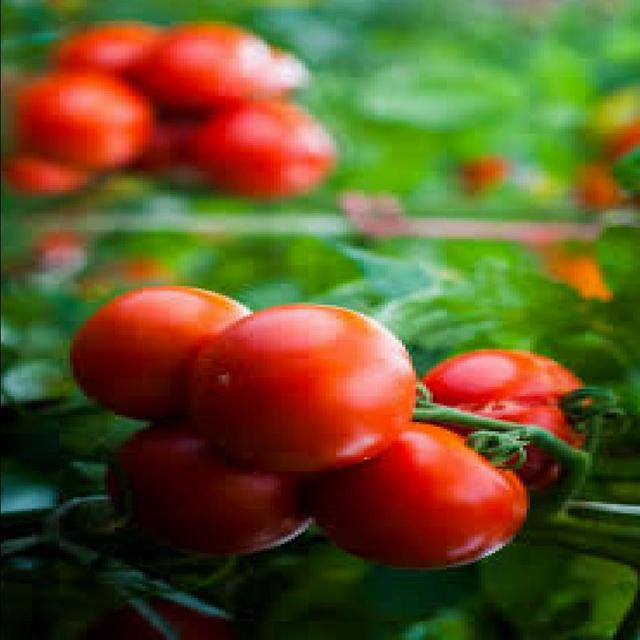Spotted wilt Virus Fruit: (136, 109, 353, 310)
